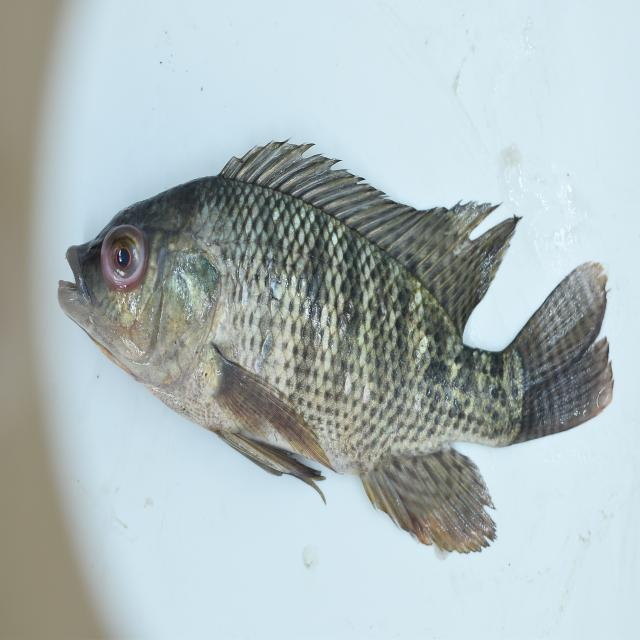Columnaris Disease: (52, 130, 615, 564)
